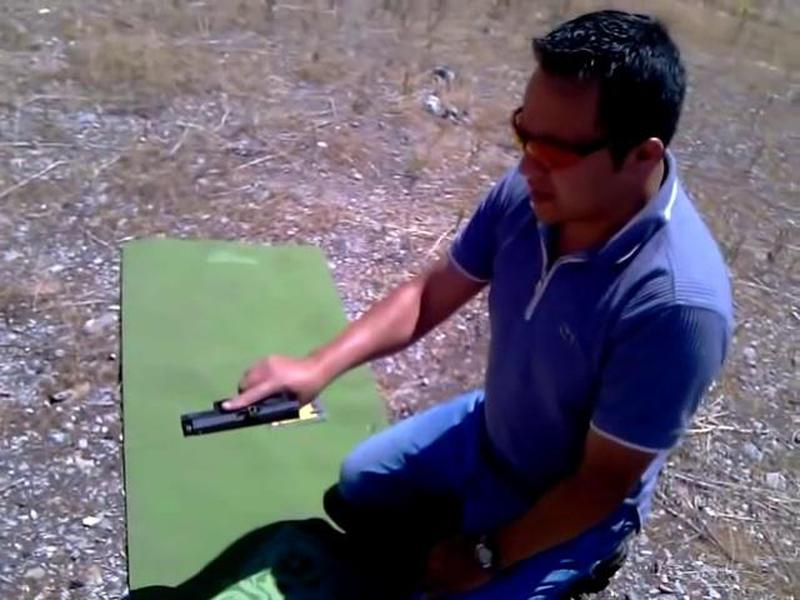Pistola: (165, 369, 308, 454)
